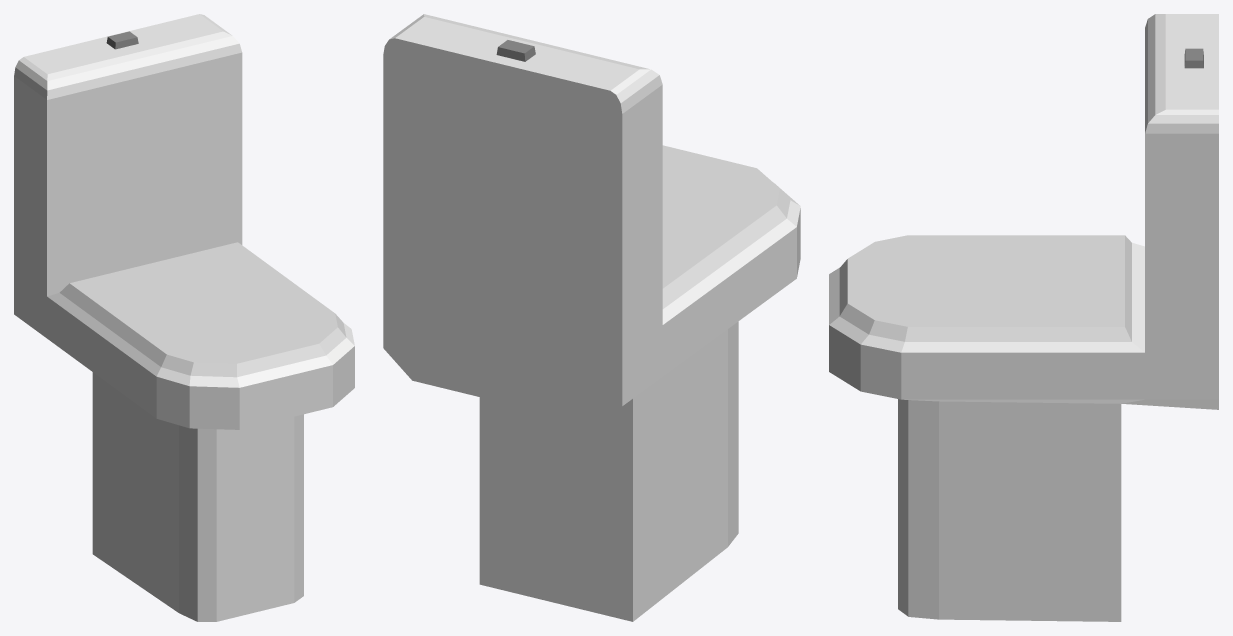
Rendered from ToiletClosed.fbx.
3 views of the same model, side by side, from view 1: azimuth 30°, elevation 25°; view 2: azimuth 150°, elevation 25°; view 3: azimuth 270°, elevation 25° (orthographic). The views are drawn at different scales.
Visible parts, largest first — view 1: ToiletClosed; view 2: ToiletClosed; view 3: ToiletClosed.
Part boxes in pixels (x1,y1,x2,y2): ToiletClosed: (14,14,354,621); ToiletClosed: (383,14,800,621); ToiletClosed: (829,14,1218,621).
Size of the model in its own units: 52.91 by 124 by 82.06.
